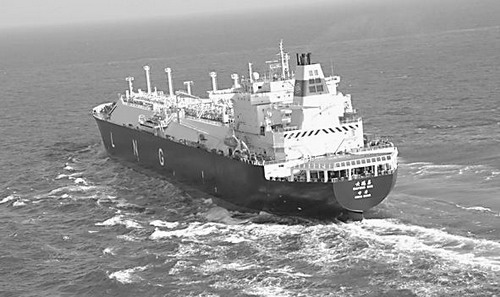Cargoship: (92, 47, 416, 214)
